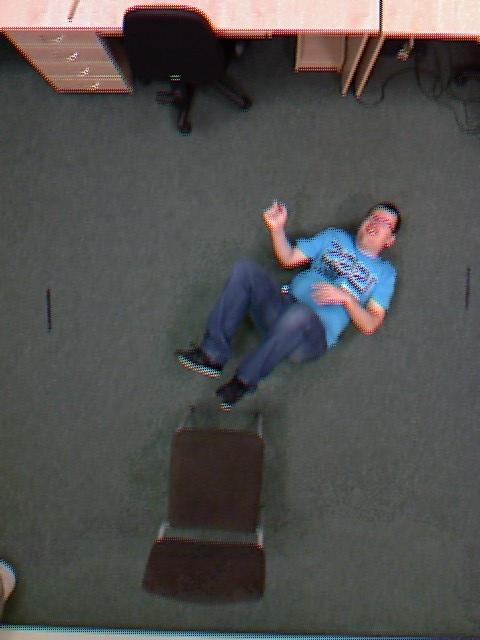fall: (203, 144, 372, 460)
